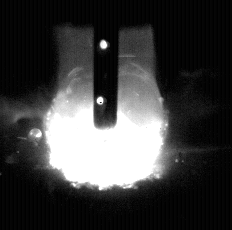arame: (94, 0, 119, 129)
poca: (44, 0, 164, 230)
